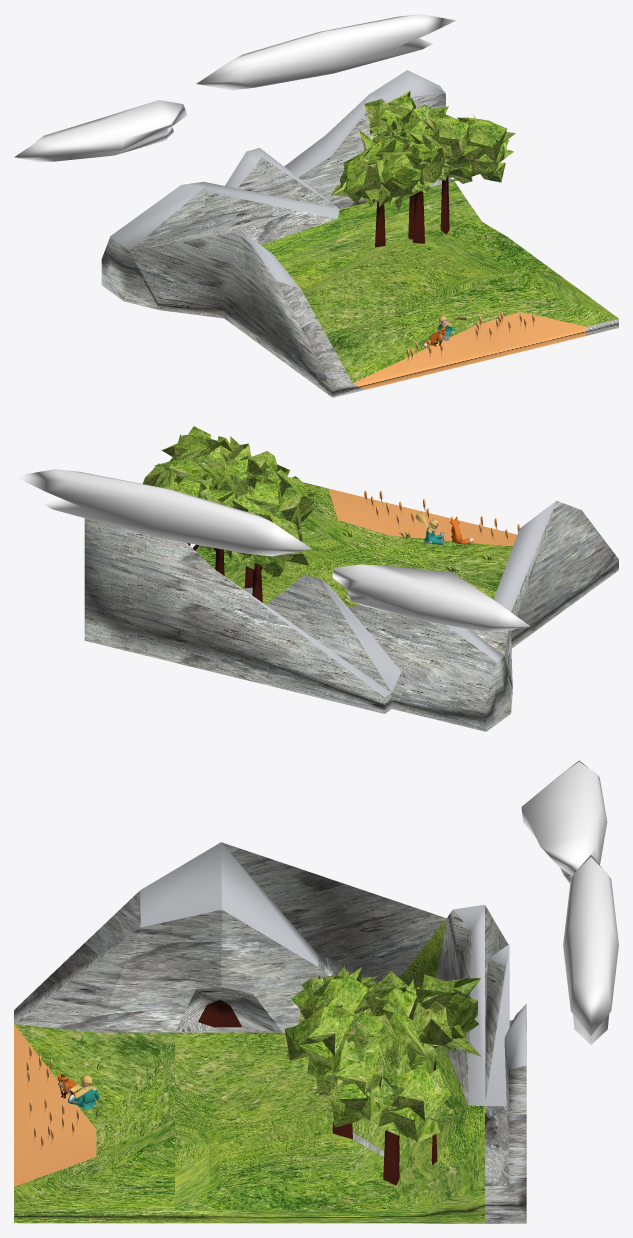
The model's file is fox-scene.glb.
3 renders of one model, top to bottom at view 1: azimuth 30°, elevation 25°; view 2: azimuth 150°, elevation 25°; view 3: azimuth 270°, elevation 25°, orthographic. The views are drawn at different scales.
Parts seen in each view (by area): view 1: Escenario_0, Nubes_2, Hojas_3; view 2: Escenario_0, Nubes_2, Hojas_3, Trigo_9, Principito_4; view 3: Escenario_0, Hojas_3, Nubes_2, Principito_4, Trigo_9.
Boxes of the visible parts, x1,y1,x2,y2 form: Escenario_0: (101, 70, 618, 397); Nubes_2: (14, 14, 455, 161); Hojas_3: (331, 91, 515, 212); Escenario_0: (84, 482, 618, 731); Nubes_2: (14, 469, 530, 631); Hojas_3: (142, 426, 316, 577); Trigo_9: (364, 490, 519, 542); Principito_4: (415, 511, 444, 545); Escenario_0: (14, 842, 526, 1223); Hojas_3: (284, 966, 481, 1143); Nubes_2: (521, 760, 618, 1044); Principito_4: (68, 1074, 99, 1109); Trigo_9: (25, 1045, 78, 1153).
Size of the model in its own units: 39.92 by 14.69 by 32.77.
Materials: 19 (3 with a texture image).
